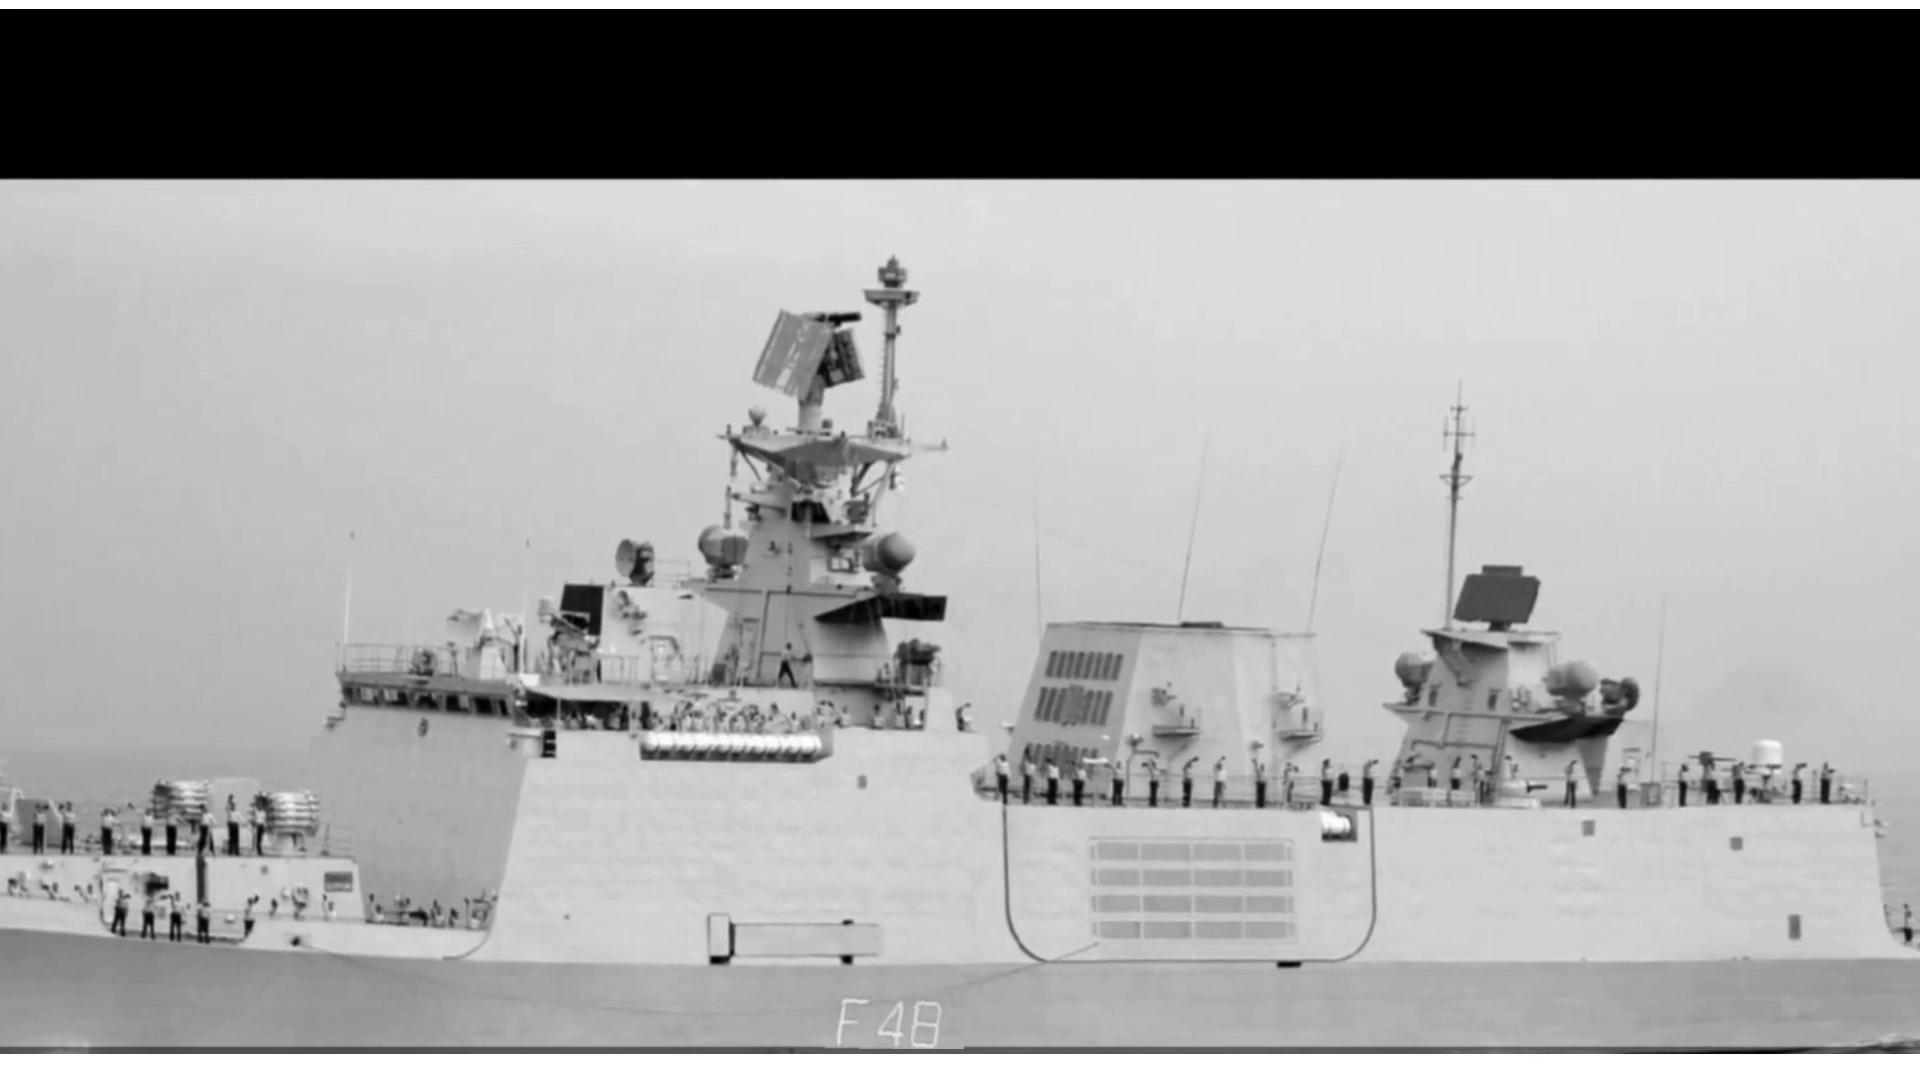OCR: (806, 987, 964, 1049)
